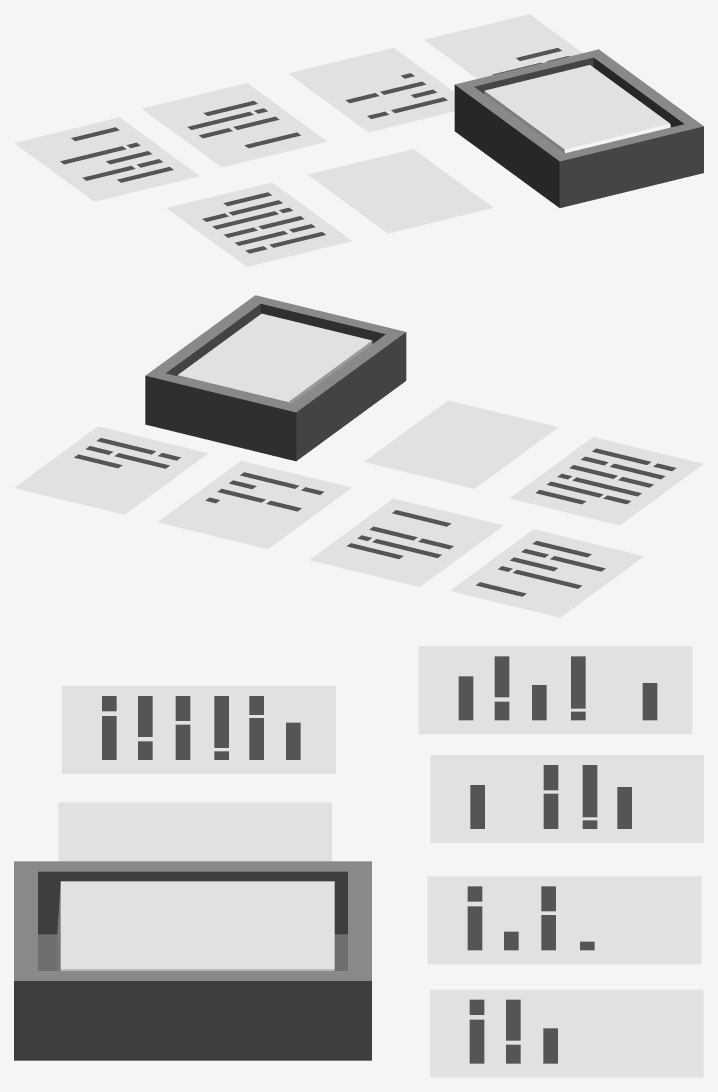
The model's file is Paper.fbx.
The picture shows the model from 3 angles, top to bottom: view 1: azimuth 30°, elevation 25°; view 2: azimuth 150°, elevation 25°; view 3: azimuth 270°, elevation 25°; orthographic projection. The views are drawn at different scales.
Parts seen in each view (by area): view 1: PaperBin, PaperNote5, Paper, PaperNote4, PaperNote1, PaperNote3, PaperNote2; view 2: PaperBin, Paper, PaperNote3, PaperNote1, PaperNote5, PaperNote2, PaperNote4; view 3: PaperBin, PaperNote3, PaperNote5, PaperNote2, PaperNote1, PaperNote4, Paper.
Part boxes in pixels (<box>): PaperBin: <box>454,49,703,207</box>; PaperNote5: <box>14,117,199,201</box>; Paper: <box>308,149,493,233</box>; PaperNote4: <box>142,83,326,167</box>; PaperNote1: <box>167,182,352,266</box>; PaperNote3: <box>288,48,454,132</box>; PaperNote2: <box>424,14,582,78</box>; PaperBin: <box>145,295,406,461</box>; Paper: <box>364,400,557,488</box>; PaperNote3: <box>157,460,351,548</box>; PaperNote1: <box>509,437,703,525</box>; PaperNote5: <box>450,529,643,617</box>; PaperNote2: <box>14,426,207,514</box>; PaperNote4: <box>310,498,503,586</box>; PaperBin: <box>14,861,371,1060</box>; PaperNote3: <box>427,876,701,964</box>; PaperNote5: <box>418,646,692,734</box>; PaperNote2: <box>430,989,703,1077</box>; PaperNote1: <box>62,686,335,773</box>; PaperNote4: <box>430,755,703,842</box>; Paper: <box>58,802,331,861</box>.
Size of the model in its own units: 1.21 by 0.1037 by 0.8154.
